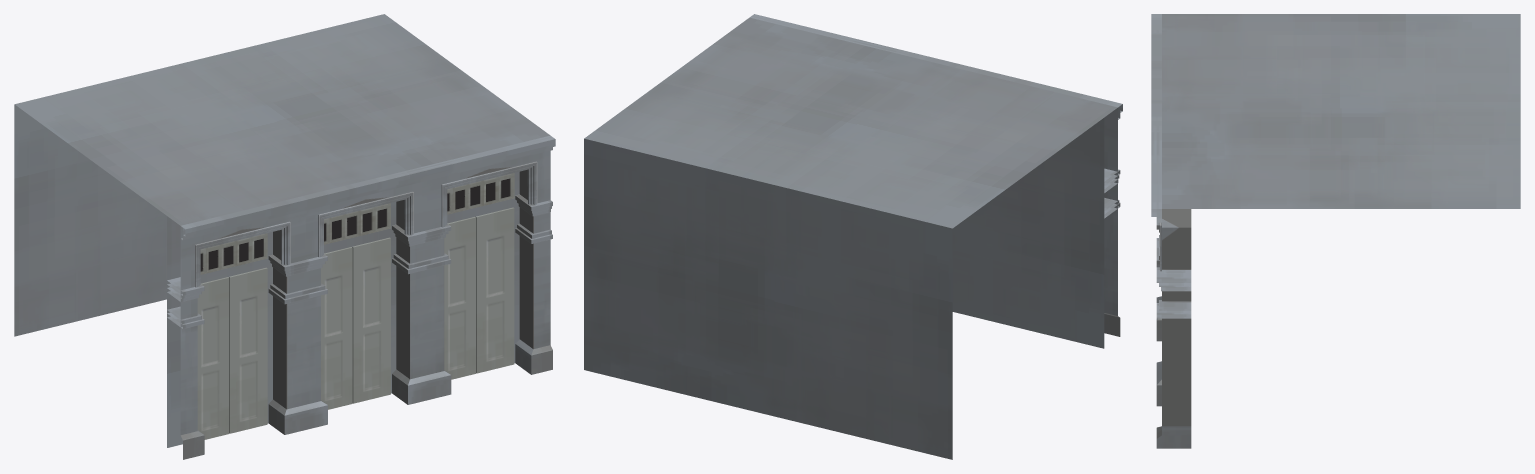
The model's file is Building_Variation_1.fbx.
The picture shows the model from 3 angles, left to right: view 1: azimuth 30°, elevation 25°; view 2: azimuth 150°, elevation 25°; view 3: azimuth 270°, elevation 25°; orthographic projection. The views are drawn at different scales.
Parts seen in each view (by area): view 1: Building_Variation1; view 2: Building_Variation1; view 3: Building_Variation1.
Part boxes in pixels (box(x1,y1,x2,y2)): Building_Variation1: box(14, 14, 555, 459); Building_Variation1: box(584, 14, 1122, 459); Building_Variation1: box(1151, 14, 1520, 448).
Size of the model in its own units: 500 by 300 by 400.
